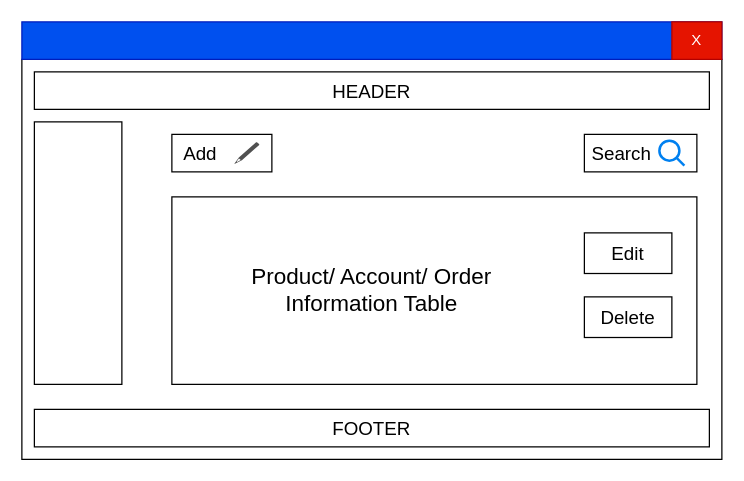
This 744x481 diagram has some shape labels left out. The box of each missing label's shape, as (x1, y1, x2, y2) in pixels:
LEFT MENU: (33, 121, 122, 384)
PRODUCT/ ACCOUNT/ ORDER CONTROL PAGE: (21, 21, 722, 59)
